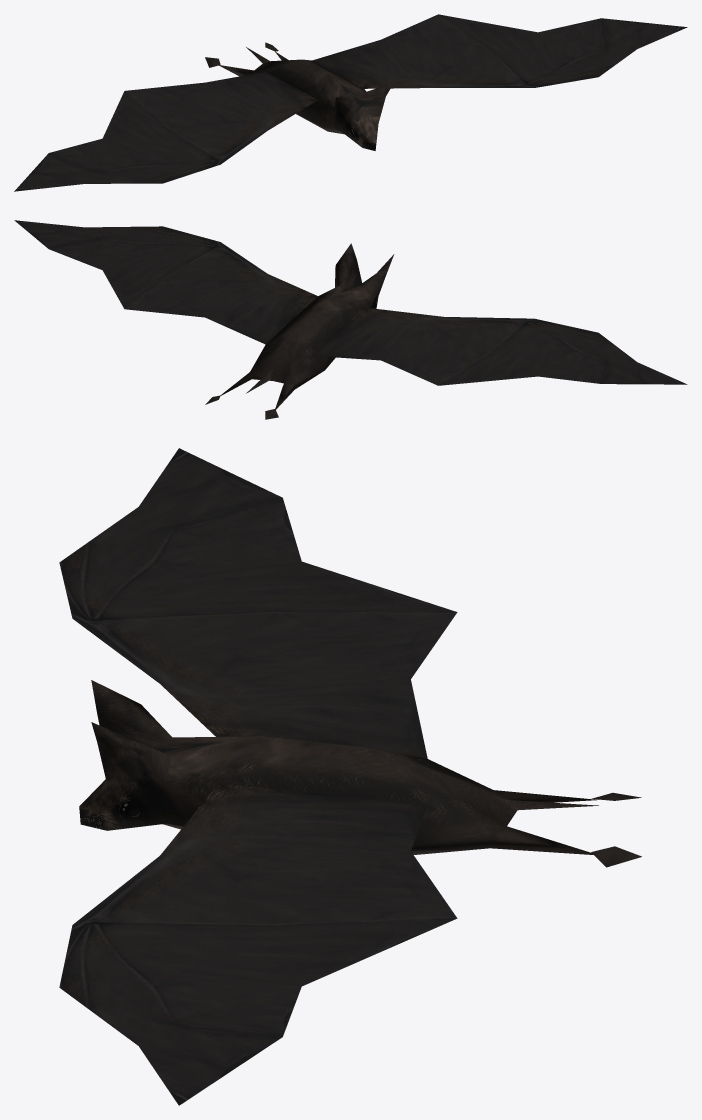
Rendered from Particle_Bat_Model_UltraLow.fbx.
3 renders of one model, top to bottom at view 1: azimuth 30°, elevation 25°; view 2: azimuth 150°, elevation 25°; view 3: azimuth 270°, elevation 25°, orthographic. The views are drawn at different scales.
Visible parts, largest first — view 1: BatParticleMesh_UltraLow; view 2: BatParticleMesh_UltraLow; view 3: BatParticleMesh_UltraLow.
Part boxes in pixels (box(x1,y1,x2,y2)): BatParticleMesh_UltraLow: box(14, 14, 687, 191); BatParticleMesh_UltraLow: box(14, 220, 687, 419); BatParticleMesh_UltraLow: box(59, 448, 641, 1105).
Bounding box in the file's own units: 24.04 × 2.65 × 9.01.
